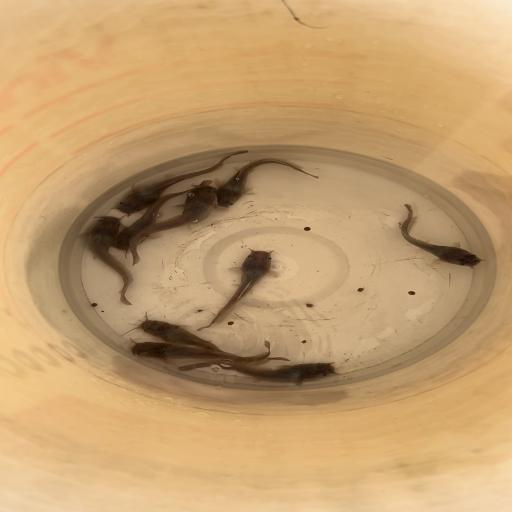lele: (114, 150, 249, 216), (106, 178, 212, 251), (128, 185, 218, 266), (192, 248, 274, 332), (393, 203, 486, 269), (213, 157, 320, 208), (84, 213, 134, 305), (177, 361, 342, 386), (121, 338, 272, 364), (134, 312, 222, 349)
